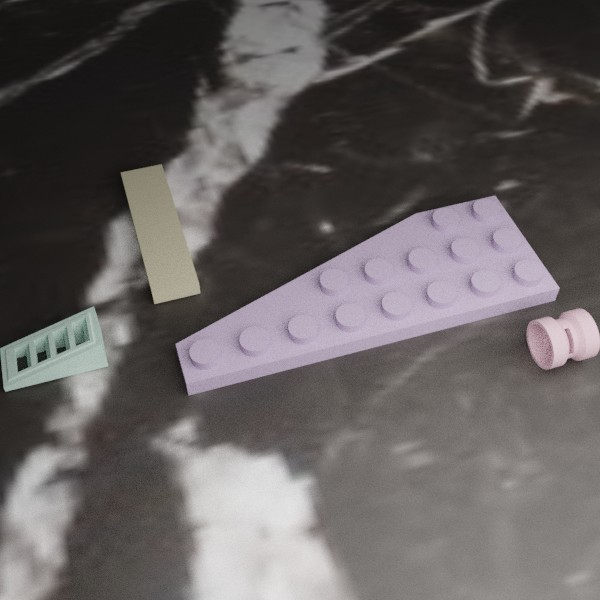lego: (175, 195, 559, 395), (120, 164, 200, 304), (0, 306, 108, 391), (526, 308, 599, 369)
